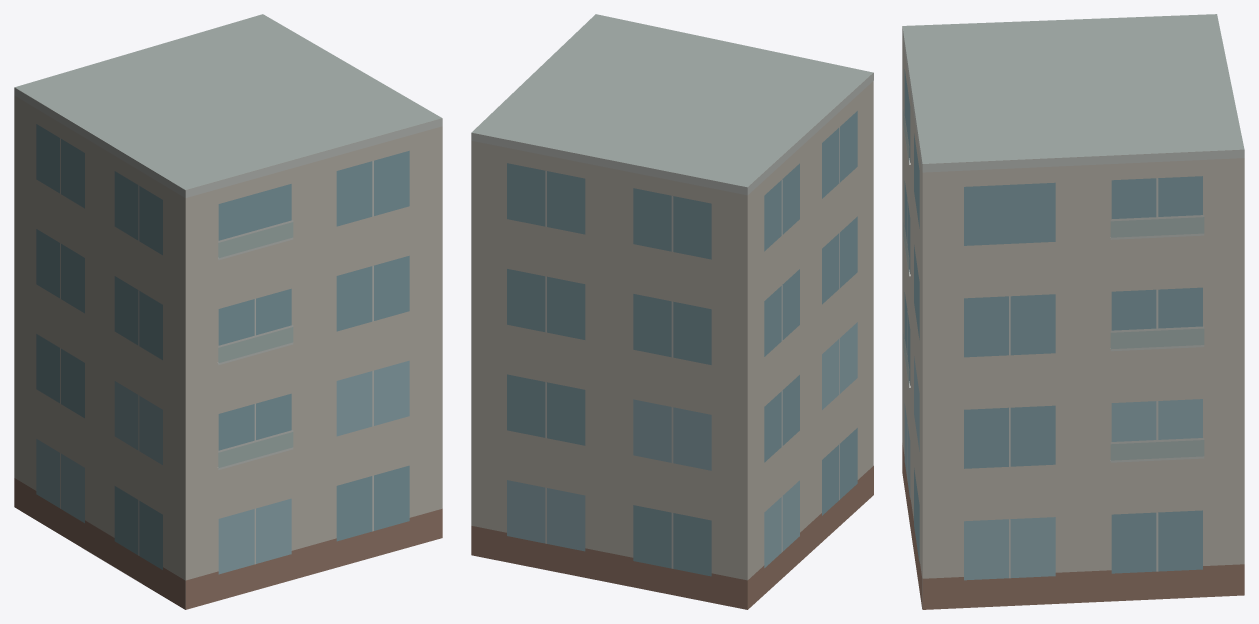
The model's file is survey-upis-32898313.glb.
The picture shows the model from 3 angles, left to right: view 1: azimuth 30°, elevation 25°; view 2: azimuth 150°, elevation 25°; view 3: azimuth 270°, elevation 25°; orthographic projection. The views are drawn at different scales.
Parts seen in each view (by area): view 1: survey-upis-32898313.tmp; view 2: survey-upis-32898313.tmp; view 3: survey-upis-32898313.tmp.
Boxes of the visible parts, x1=… form: survey-upis-32898313.tmp: x1=14, y1=14, x2=442, y2=609; survey-upis-32898313.tmp: x1=471, y1=14, x2=873, y2=609; survey-upis-32898313.tmp: x1=902, y1=14, x2=1244, y2=609.
Size of the model in its own units: 9.18 by 12.7 by 8.85.
